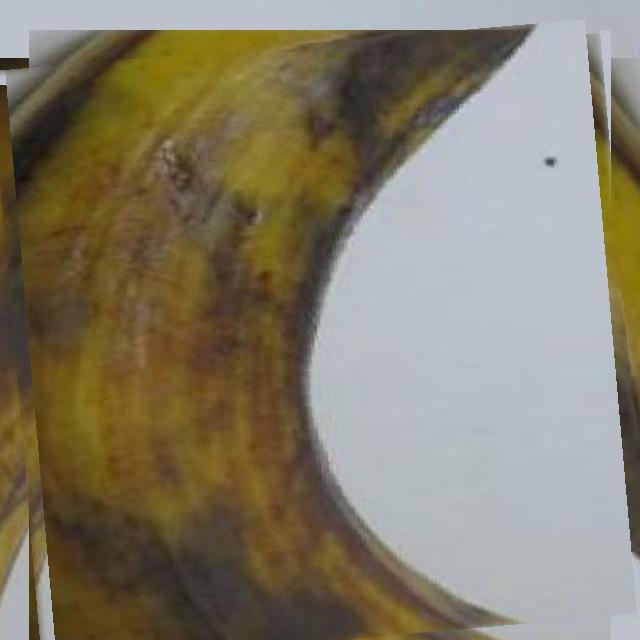Execivamente Madura: (1, 30, 637, 640)
